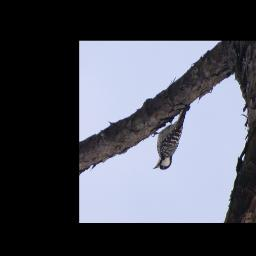Woodpecker: (149, 101, 193, 174)
